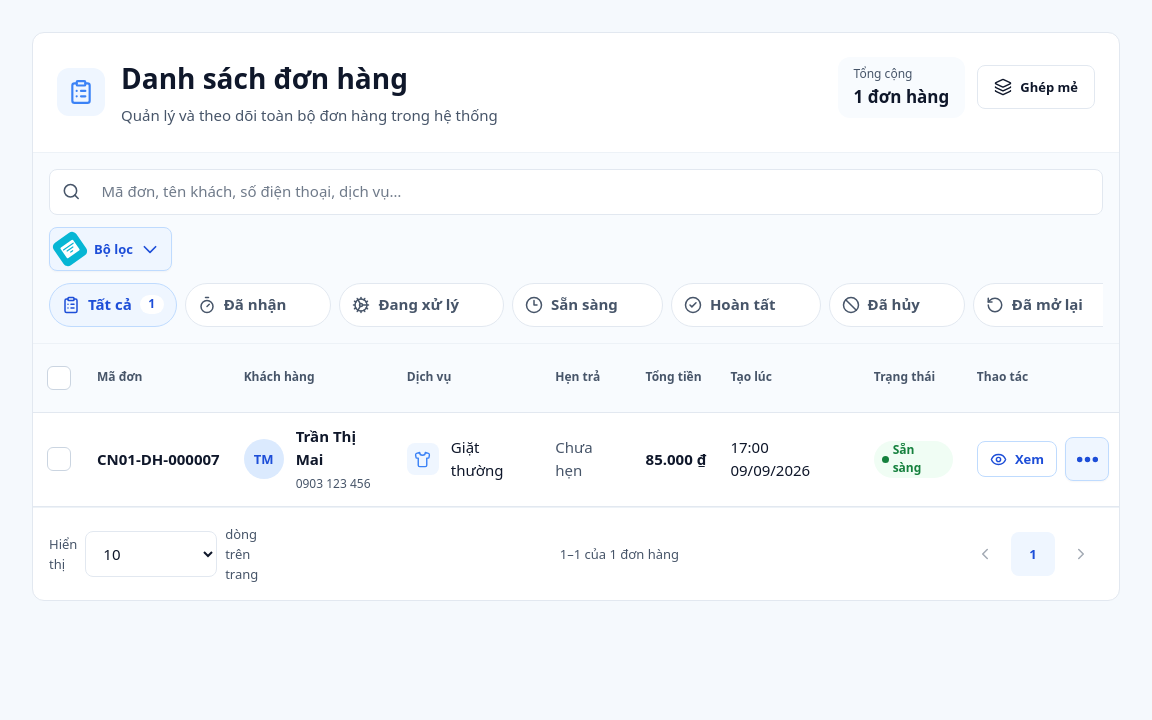
Order pages › selects only visible rows and exposes item-based batch composition when permitted
Click the checkbox named "Chọn CN01-DH-000007": (59, 459) [47,447,71,471]
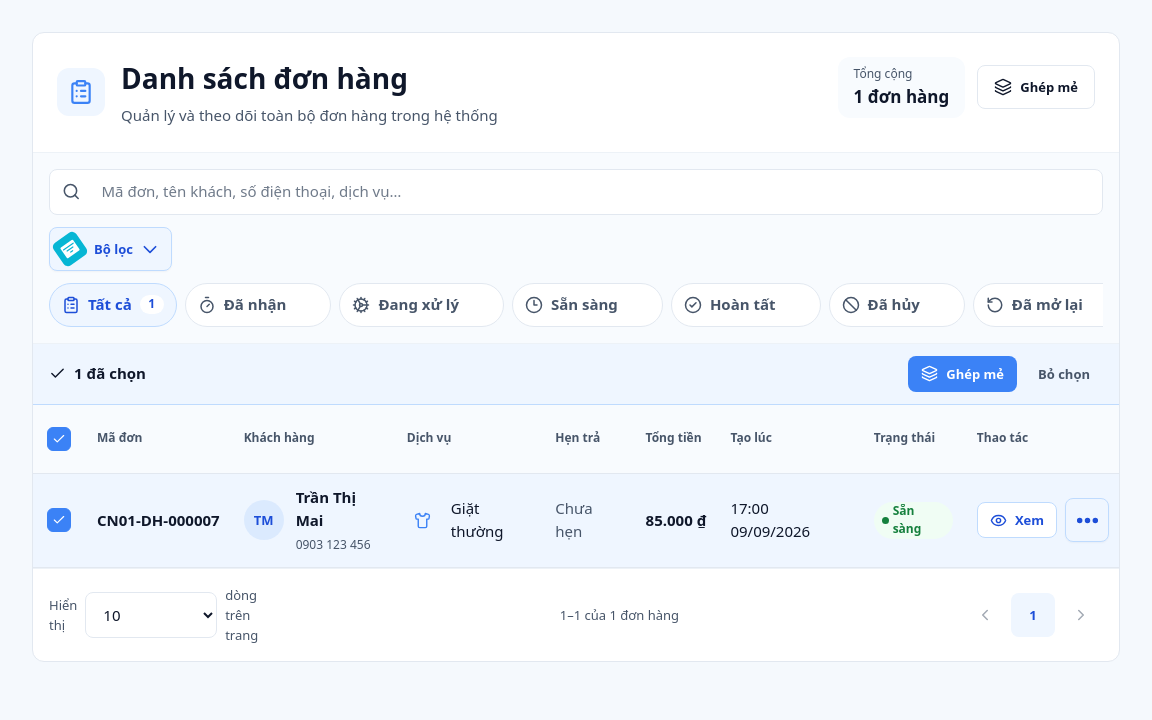
Now the text "1 đã chọn" is shown, box [49,362,146,385]
Now the number of buttons "Ghép mẻ" is 2, box [977,66,1095,110]; [908,356,1017,392]
Now the element named "Thao tác với 1 đơn hàng đã chọn" is shown, box [33,344,1119,405]
